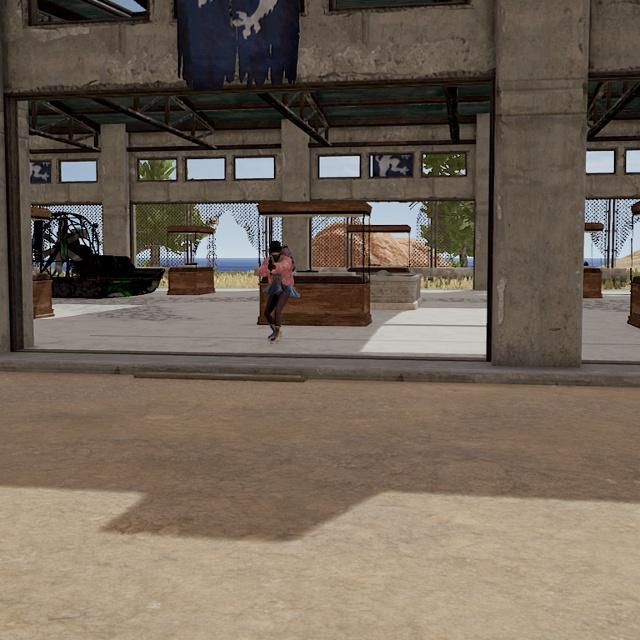head: (267, 240, 284, 263)
people: (252, 238, 295, 344)
